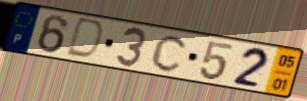2: (228, 45, 273, 91)
3: (114, 26, 148, 68)
5: (198, 39, 235, 82)
6: (36, 14, 71, 55)
C: (149, 33, 191, 73)
D: (63, 16, 107, 62)
